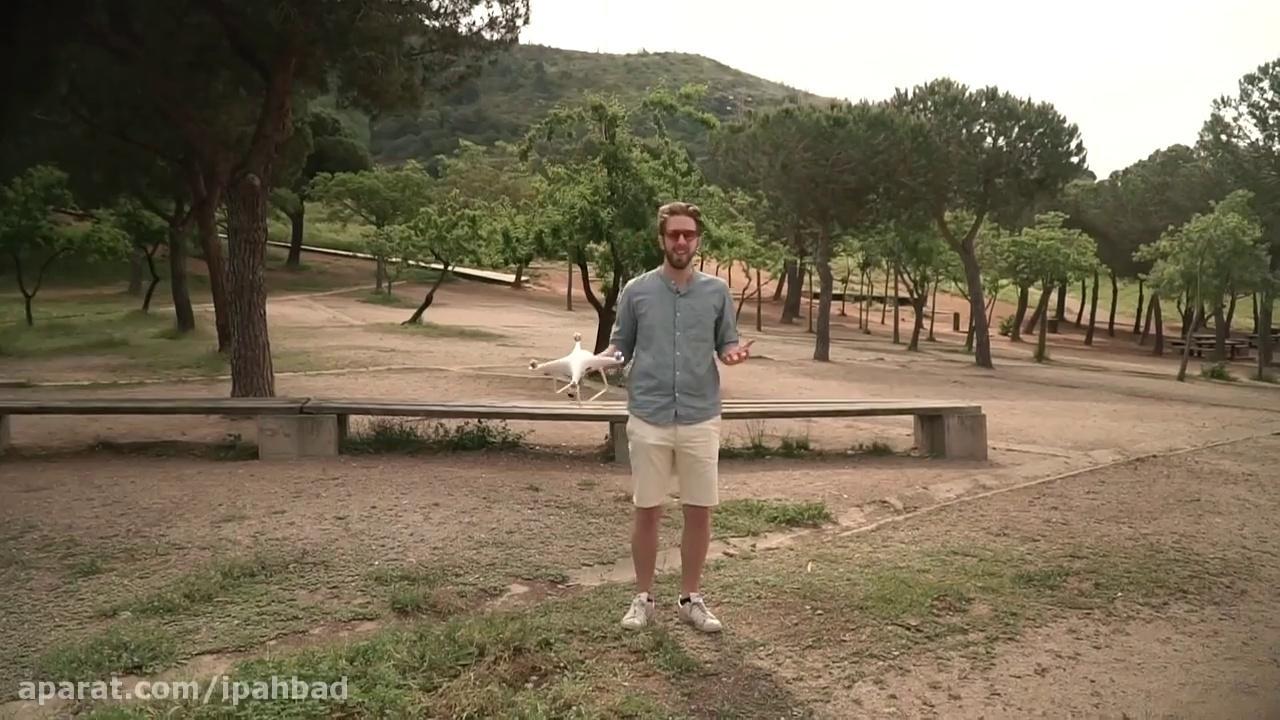drone: (526, 332, 627, 405)
